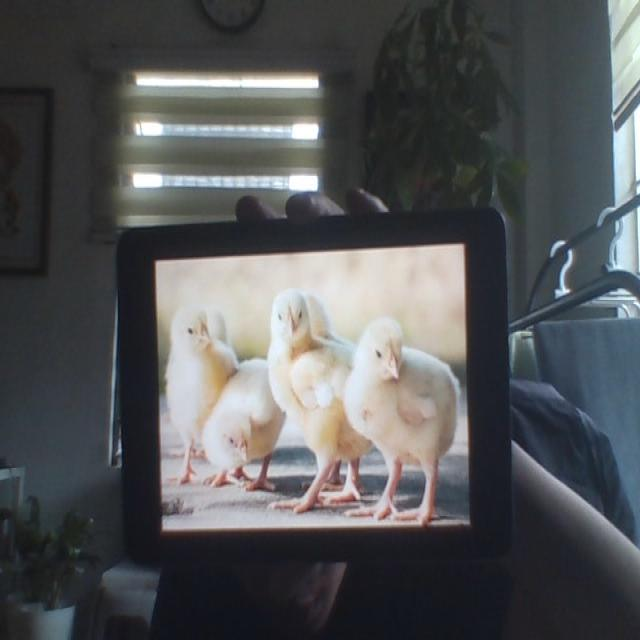Healthy: (348, 312, 460, 522), (265, 292, 366, 516), (166, 306, 230, 426)
Sick: (196, 359, 282, 497)
